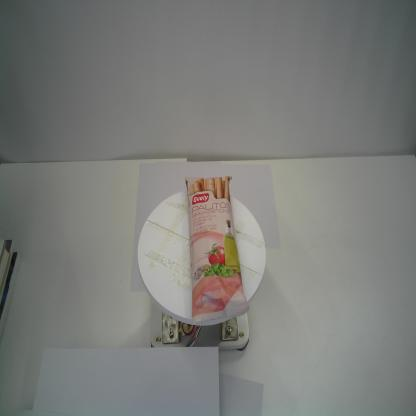Dessert: (185, 176, 250, 324)
